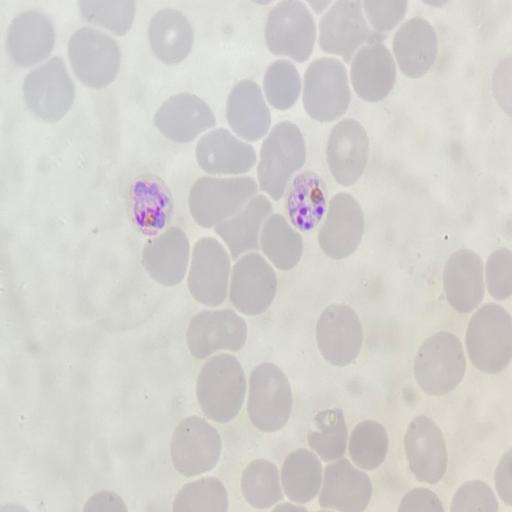Infected: (130, 176, 171, 236), (287, 172, 327, 231)
Uninfected: (188, 175, 258, 231), (194, 354, 248, 425), (256, 123, 307, 197), (413, 332, 466, 396), (153, 91, 217, 144), (245, 362, 293, 432), (464, 304, 512, 374), (67, 28, 123, 88), (263, 1, 317, 62), (22, 58, 75, 120), (220, 194, 272, 257), (227, 252, 277, 316), (186, 236, 232, 305), (142, 225, 192, 288), (301, 58, 351, 121), (317, 193, 364, 260), (317, 1, 370, 60), (170, 416, 222, 476), (185, 308, 245, 360), (316, 301, 364, 365), (194, 128, 256, 177), (402, 416, 447, 483), (348, 44, 397, 105), (325, 118, 369, 184), (441, 249, 485, 314), (225, 79, 272, 139), (6, 11, 56, 66), (392, 18, 437, 77), (319, 461, 371, 511), (147, 9, 195, 63), (259, 213, 302, 270), (261, 59, 303, 113), (280, 450, 321, 503), (79, 1, 137, 38), (307, 409, 347, 460), (351, 418, 390, 469), (240, 461, 282, 508), (171, 478, 226, 511), (362, 1, 408, 36), (450, 480, 496, 511)
